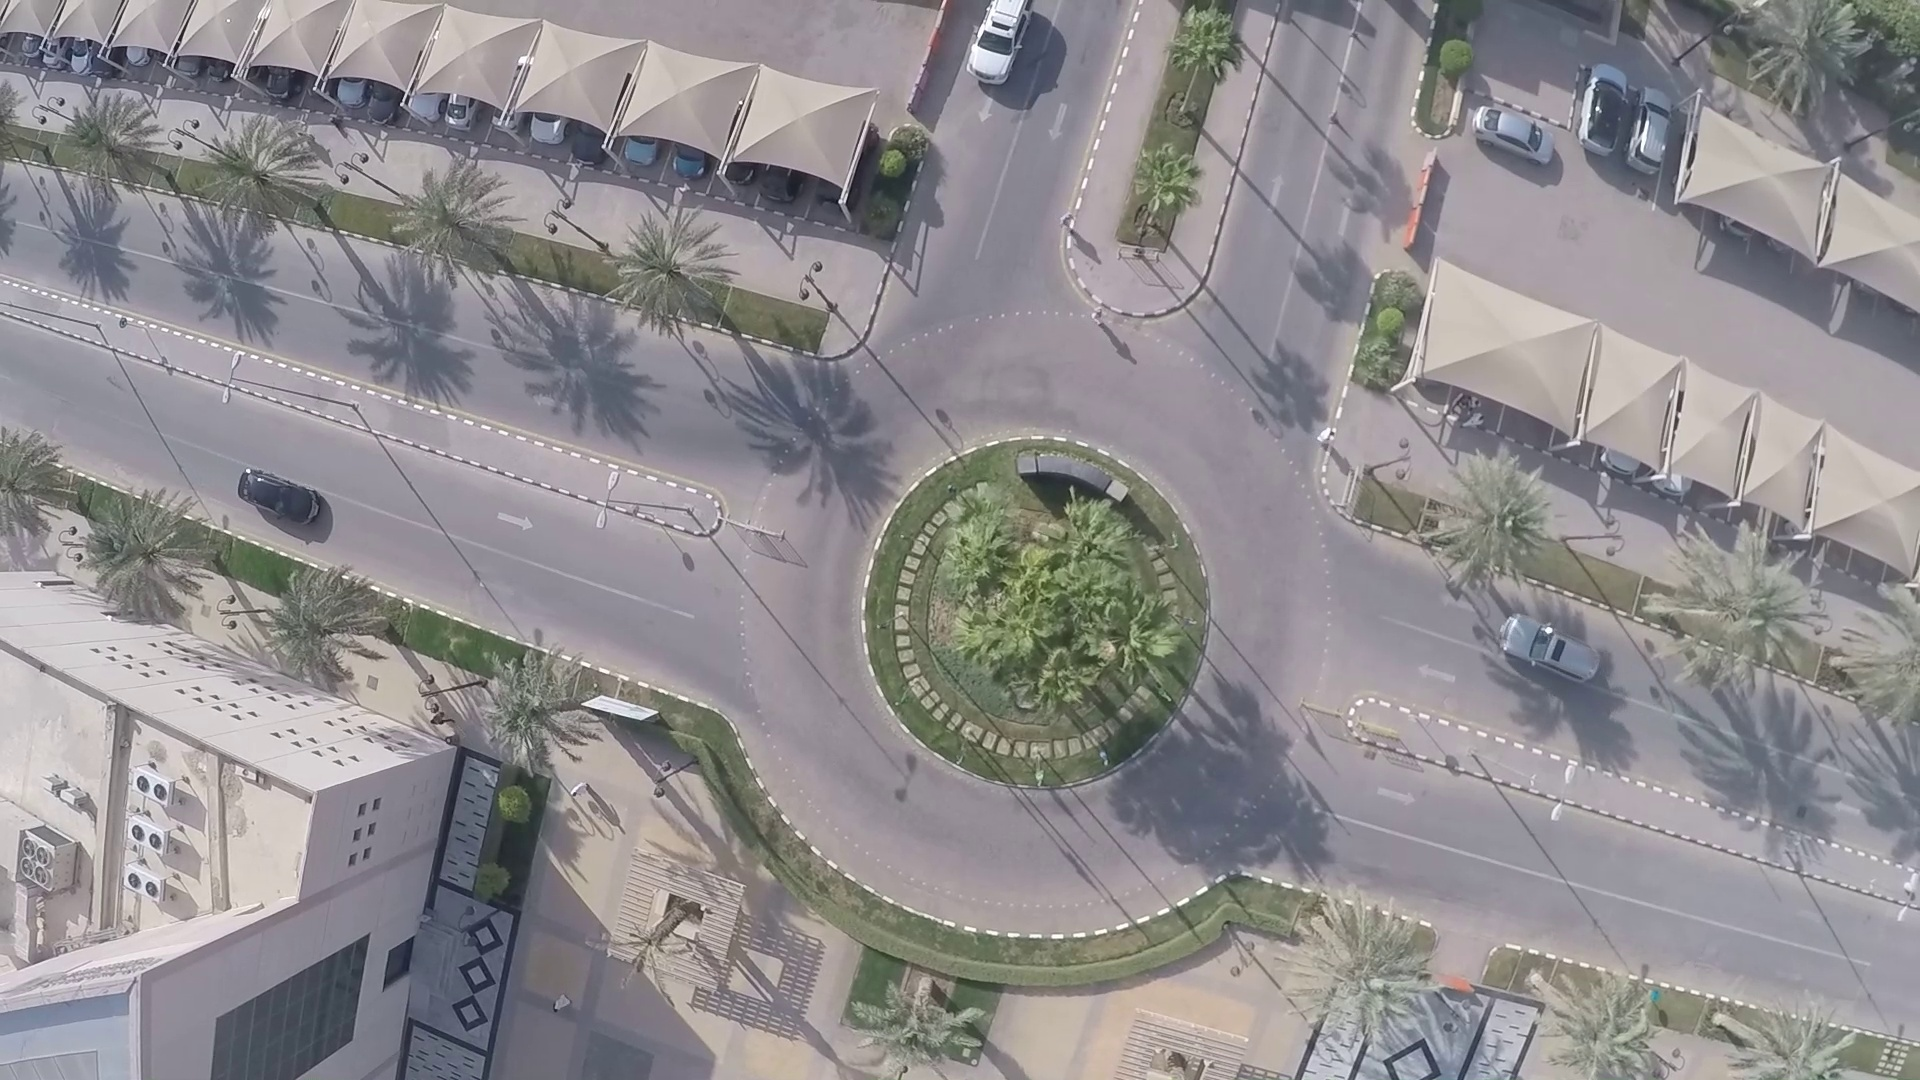car: (1501, 612, 1623, 688), (218, 455, 336, 524), (959, 1, 1030, 103)
